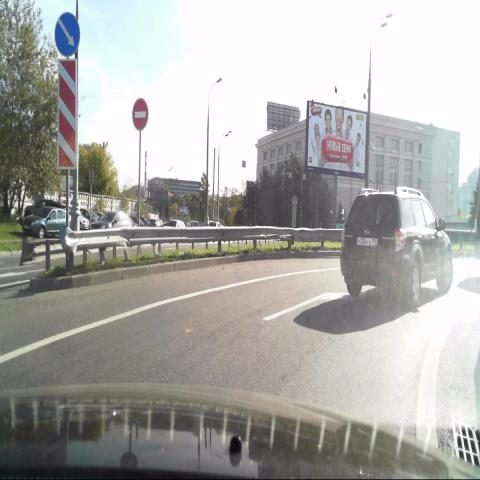4_2_1: (54, 12, 80, 60)
